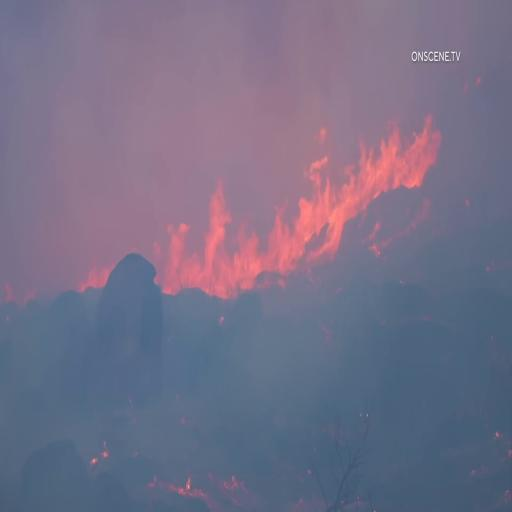fire: (252, 146, 343, 276), (161, 182, 253, 292), (334, 120, 442, 207)
